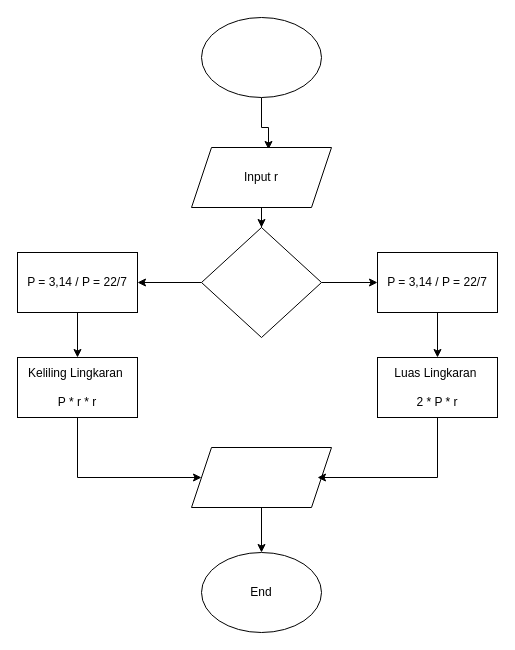
Image size: 515x650. Some labels were removed from this diagram. The centre of each missing label's shape, as x and y in pixels:
Hasil: point 261,477
IF Keliling/ Luas Lingkaran: point 261,282
Start: point 261,57
